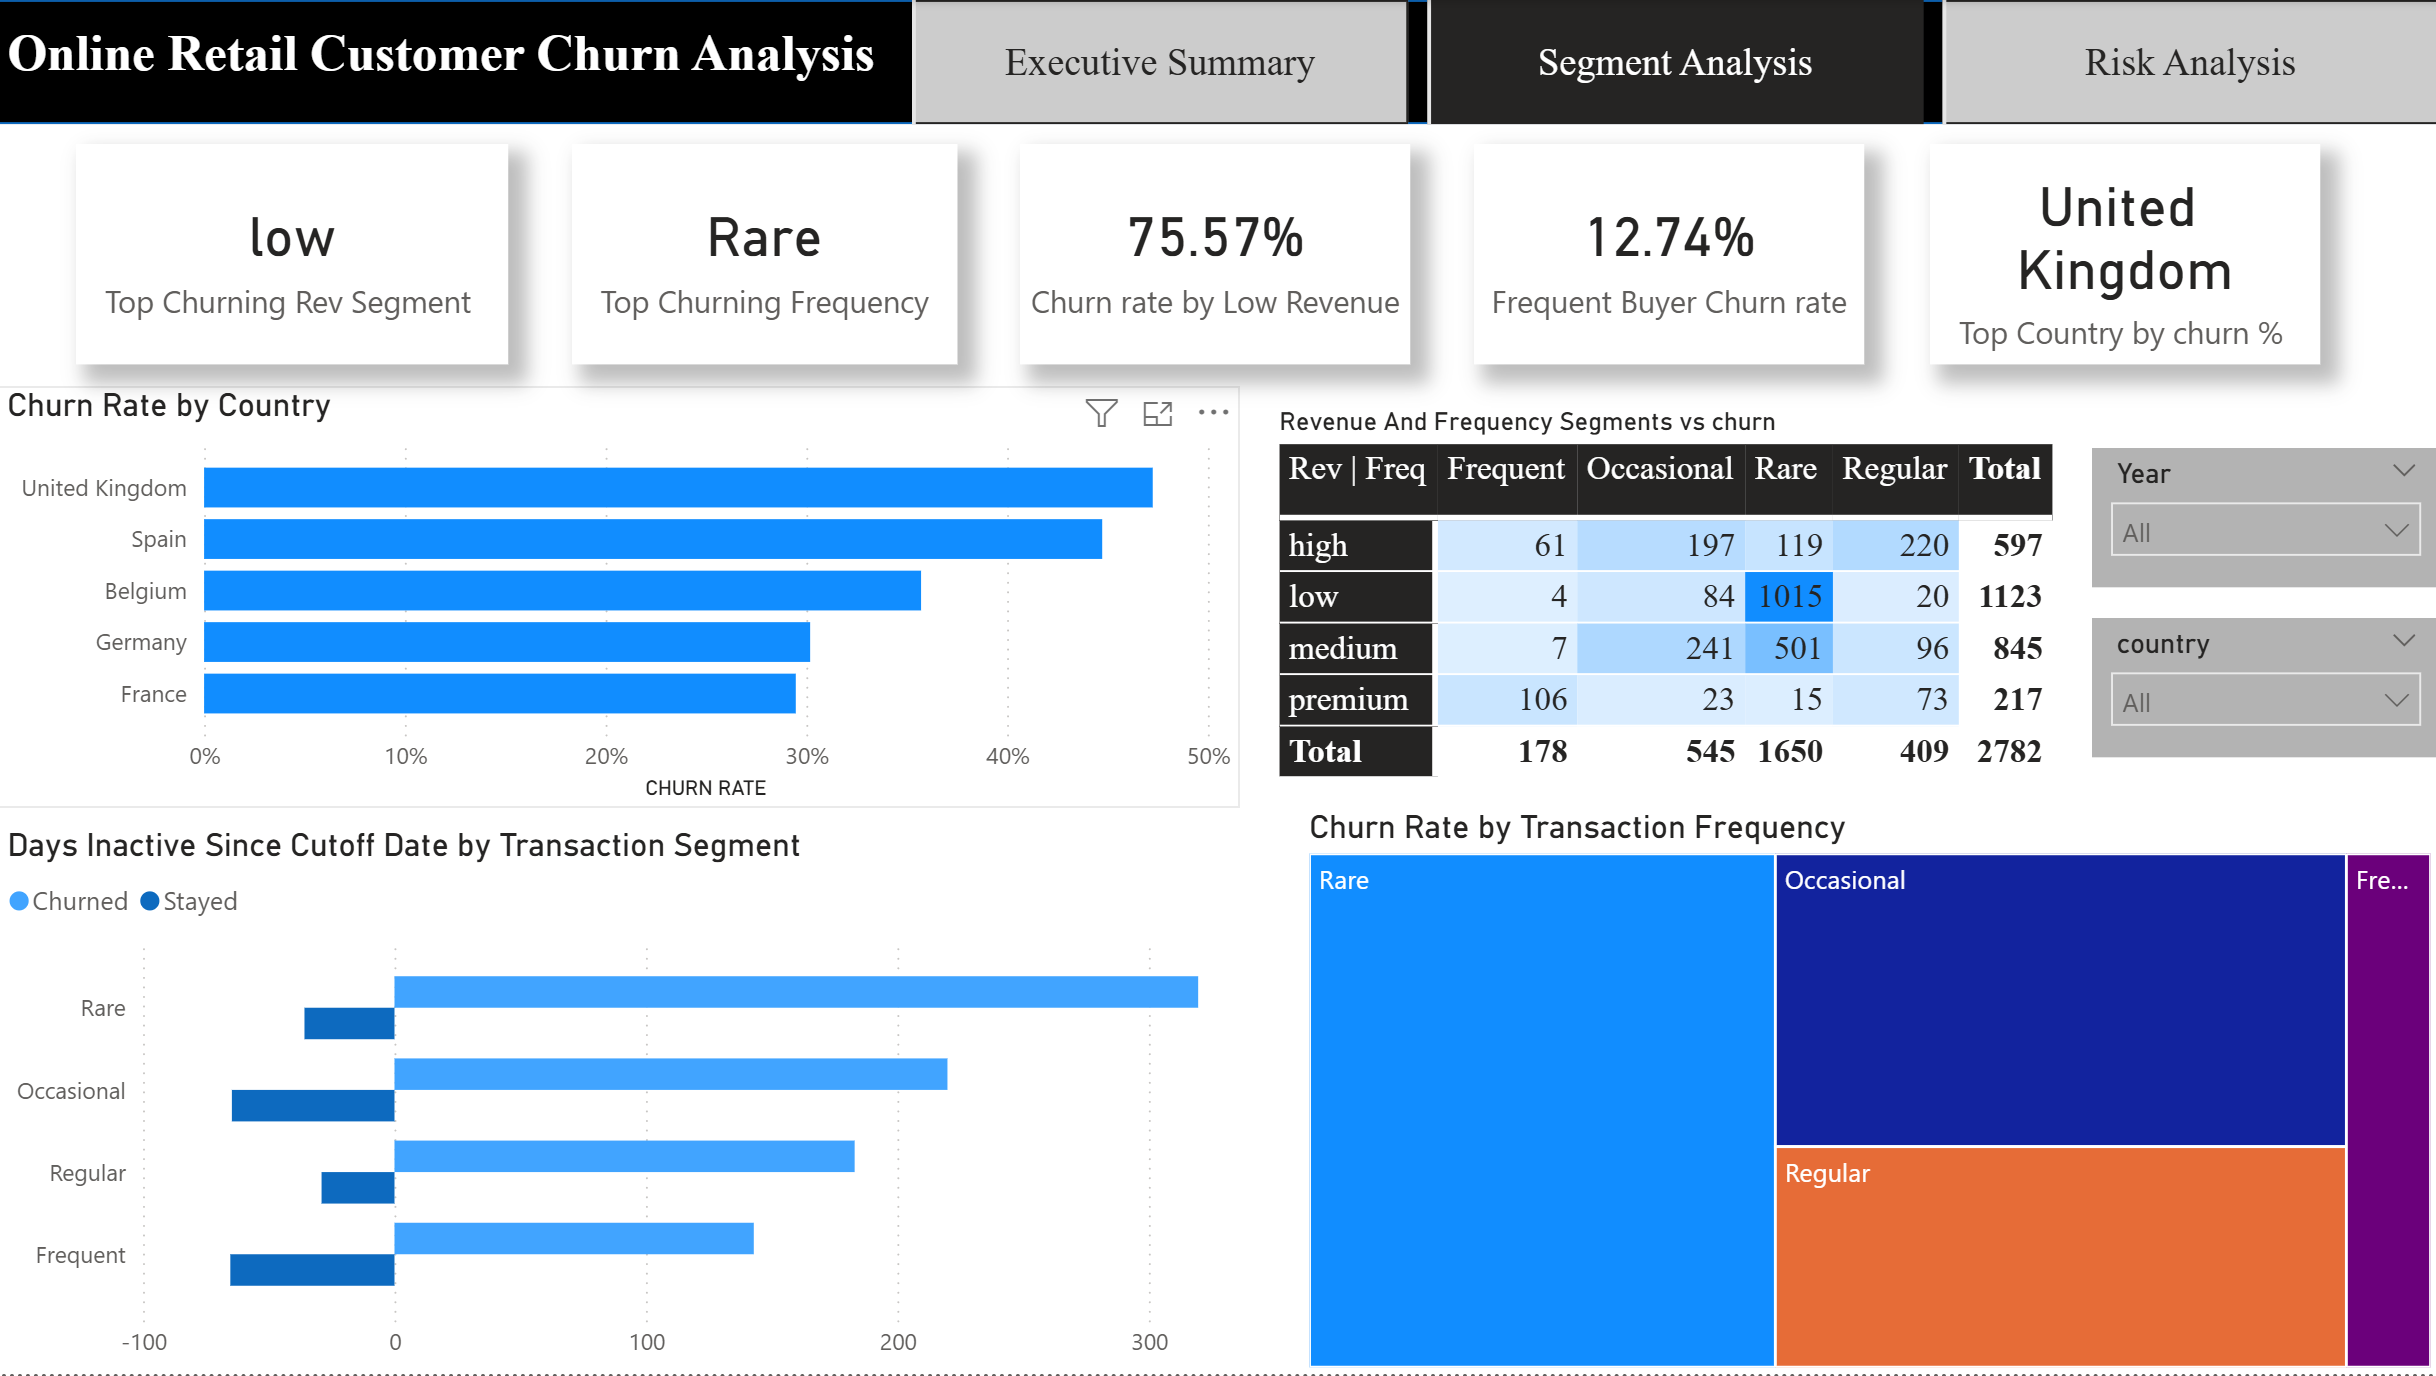

This screenshot's page, from the dashboard's own definition file:
{"tool":"powerbi","page":{"name":"Segment Analysis","canvas":[1280,720],"ordinal":1},"visuals":[{"type":"pivotTable","title":"Revenue And Frequency Segments vs churn","fields":{"Values":["Sum(online_retail_churn_final.churn)"],"Rows":["online_retail_churn_final.rev_seg"],"Columns":["online_retail_churn_final.trans_seg"]},"box":[666.1,212.9,428.5,210.1],"z":0},{"type":"clusteredBarChart","title":"Days Inactive Since Cutoff Date by Transaction Segment","fields":{"Y":["Avg(online_retail_churn_final.days_inactive)"],"Series":["online_retail_churn_final.churn_c"],"Category":["online_retail_churn_final.trans_seg"]},"box":[0,432.6,683.9,288.4],"z":1000},{"type":"shape","box":[0,0,1280,65],"z":2000},{"type":"textbox","box":[0,6.9,499.9,48.1],"z":3000},{"type":"pageNavigator","box":[479.3,0,800.7,65],"z":4000},{"type":"clusteredBarChart","title":"Churn Rate by Country","fields":{"Category":["online_retail_churn_final.country"],"Y":["online_retail_churn_final.CHURN RATE"]},"box":[0,201.9,651,221.1],"z":5000},{"type":"card","title":"Top Revenue Segment By churn","fields":{"Values":["Min(online_retail_churn_final.rev_seg)"]},"box":[41.4,75.9,226.6,115.4],"z":6000},{"type":"card","title":"Top Revenue Segment By churn","fields":{"Values":["Min(online_retail_churn_final.trans_seg)"]},"box":[301.1,75.9,201.9,115.4],"z":7000},{"type":"card","title":"Top Revenue Segment By churn","fields":{"Values":["online_retail_churn_final.CHURN RATE"]},"box":[536,75.9,204.6,115.4],"z":8000},{"type":"card","title":"Top Revenue Segment By churn","fields":{"Values":["online_retail_churn_final.CHURN RATE"]},"box":[773.7,75.9,204.6,115.4],"z":9000},{"type":"slicer","fields":{"Values":["dates.Year"]},"box":[1097.3,234.8,182.7,72.8],"z":10000},{"type":"slicer","fields":{"Values":["monthly_rev_churn.country"]},"box":[1097.3,324.1,182.7,72.8],"z":11000},{"type":"treemap","title":" Churn Rate by Transaction Frequency ","fields":{"Group":["online_retail_churn_final.trans_seg"],"Values":["online_retail_churn_final.CHURN RATE"]},"box":[682.6,423,597.4,298],"z":12000},{"type":"card","title":"Churn Rate by Country","fields":{"Values":["Min(online_retail_churn_final.country)"]},"box":[1011.9,75.4,204.4,115.6],"z":13000}]}

Visuals, with their boxes in screenshot pixels (x1, y1, x2, y2), scaled from the page's 1280x720 canvas onto the 2436x1376 screenshot:
"Revenue And Frequency Segments vs churn" pivotTable: bbox=[1268, 407, 2083, 808]
"Days Inactive Since Cutoff Date by Transaction Segment" clusteredBarChart: bbox=[0, 827, 1302, 1375]
shape: bbox=[0, 0, 2435, 124]
textbox: bbox=[0, 13, 951, 105]
pageNavigator: bbox=[912, 0, 2435, 124]
"Churn Rate by Country" clusteredBarChart: bbox=[0, 386, 1239, 808]
"Top Revenue Segment By churn" card: bbox=[79, 145, 510, 366]
"Top Revenue Segment By churn" card: bbox=[573, 145, 957, 366]
"Top Revenue Segment By churn" card: bbox=[1020, 145, 1409, 366]
"Top Revenue Segment By churn" card: bbox=[1472, 145, 1862, 366]
slicer - dates.Year: bbox=[2088, 449, 2435, 588]
slicer - monthly_rev_churn.country: bbox=[2088, 619, 2435, 759]
" Churn Rate by Transaction Frequency " treemap: bbox=[1299, 808, 2435, 1375]
"Churn Rate by Country" card: bbox=[1926, 144, 2315, 365]
